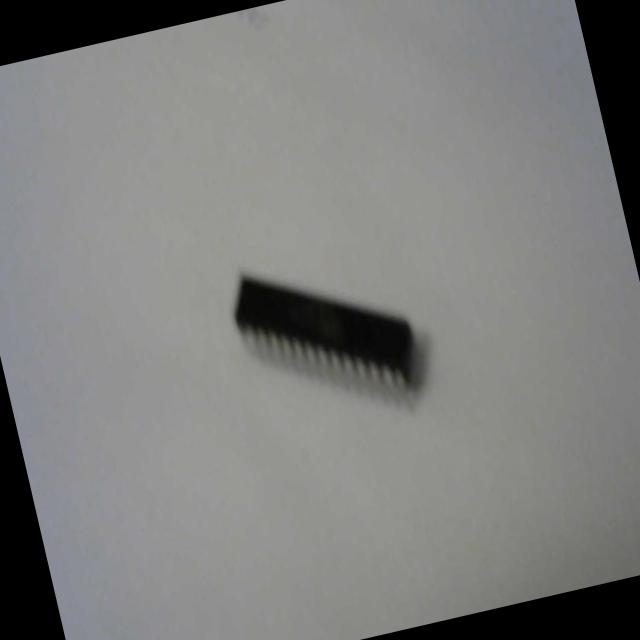atmega: (220, 232, 430, 432)
